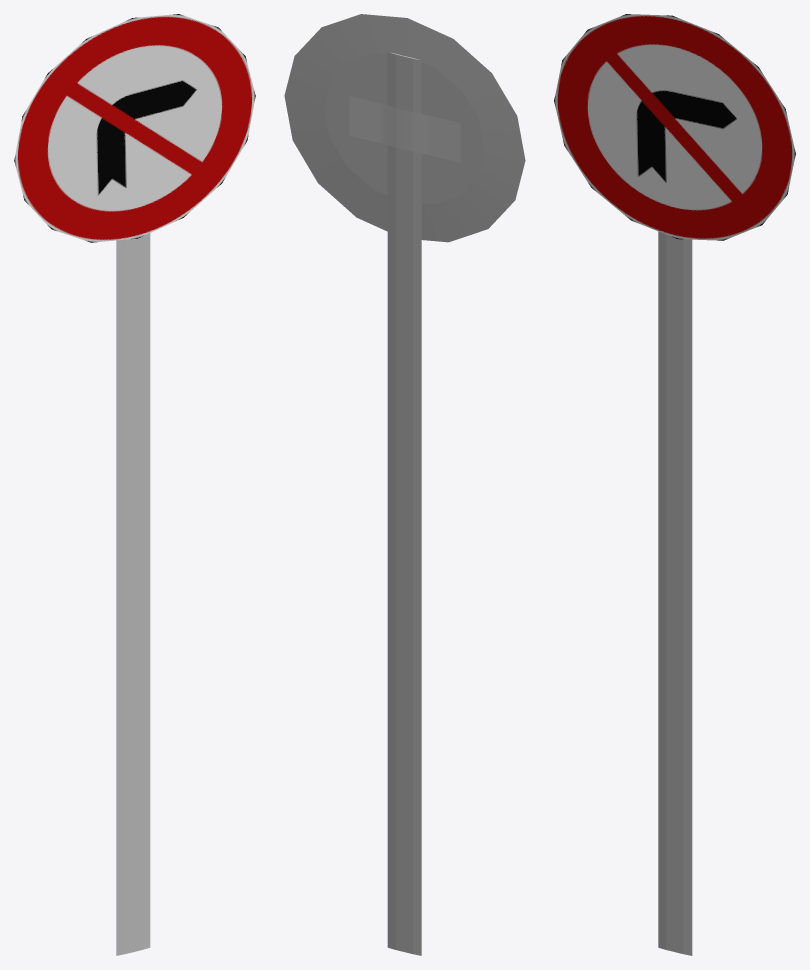
The model's file is sagdonusyasak.dae.
3 renders of one model, left to right at view 1: azimuth 30°, elevation 25°; view 2: azimuth 150°, elevation 25°; view 3: azimuth 330°, elevation 25°, orthographic.
Visible parts, largest first — view 1: Sign_Circle.005; view 2: Sign_Circle.005; view 3: Sign_Circle.005.
Boxes of the visible parts, box(x1,y1,x2,y2) form: Sign_Circle.005: box(14, 14, 255, 955); Sign_Circle.005: box(284, 14, 525, 955); Sign_Circle.005: box(554, 14, 795, 955).
Size of the model in its own units: 0.6353 by 0.00621 by 2.35.
3 materials, 1 textured.
